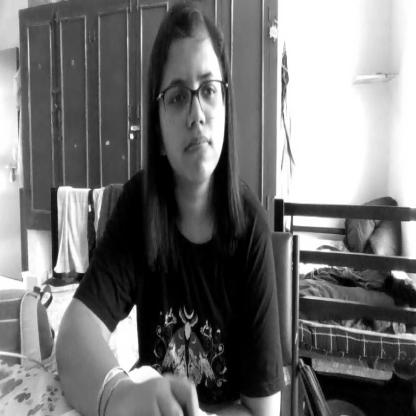Normal: (152, 5, 228, 189)
